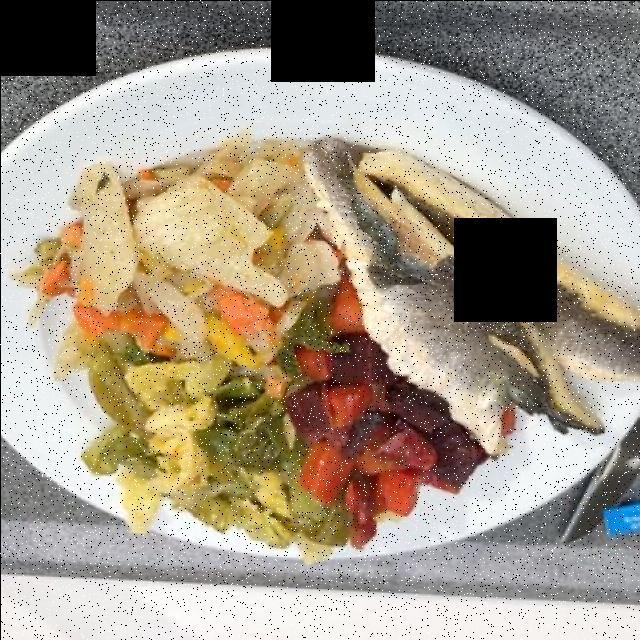beetroot: (279, 293, 478, 547)
fish: (303, 142, 626, 450)
salad: (99, 178, 318, 494)
